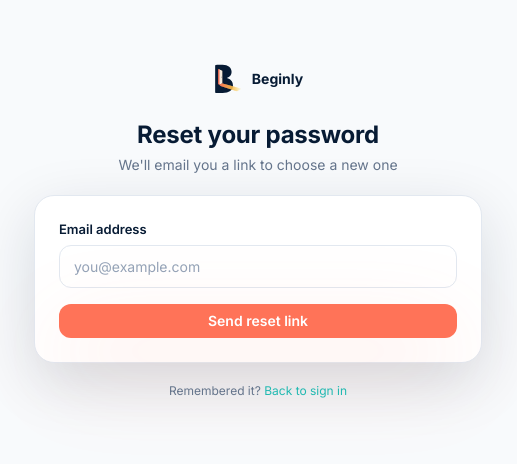
Test case: ForgotPasswordPage › sends a reset link and shows the check-your-email confirmation
Type "user@example.com" into the field with placeholder "you@example.com" at x=258, y=266, box [59,245,457,288]
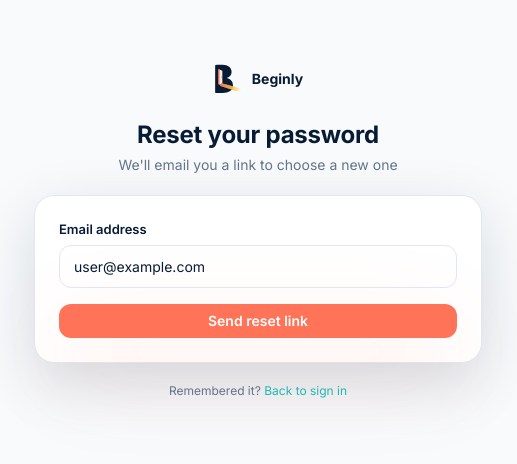
Click the button "Send reset link" at x=258, y=321, box [59,304,457,338]
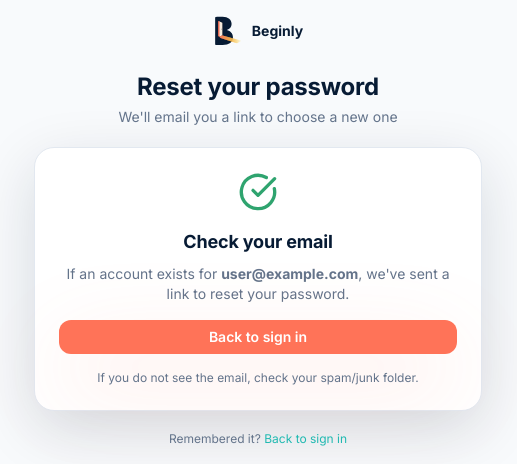
Expected: the heading "Check your email" is shown, [183,231,333,252]
